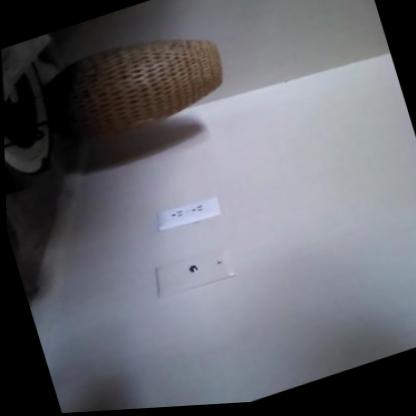OUTLET: (153, 194, 222, 234)
